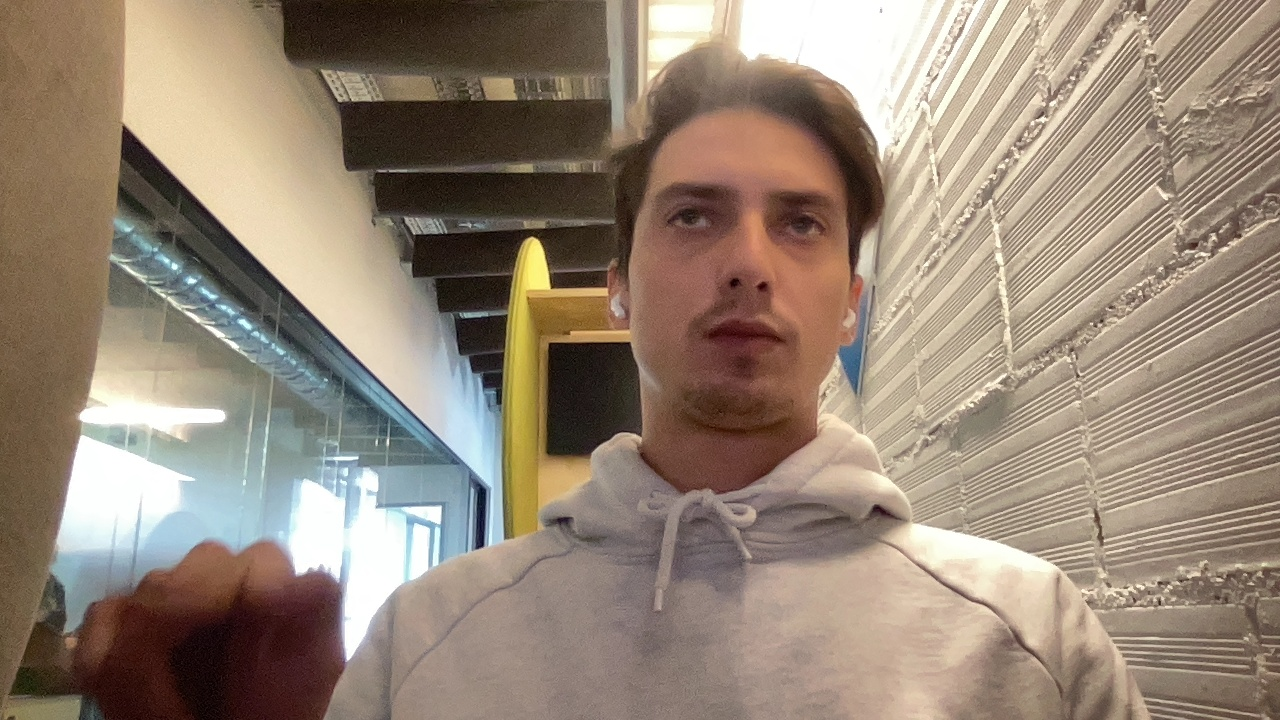no: (55, 540, 364, 717)
